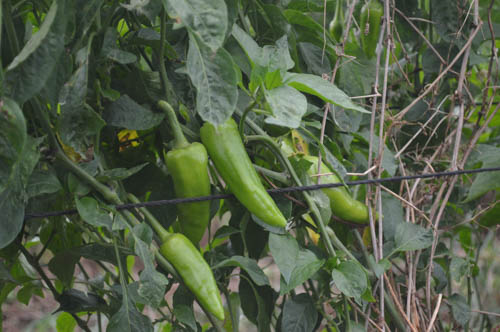ChiliPepper: (200, 118, 287, 226), (301, 151, 375, 223), (166, 236, 224, 317), (167, 144, 213, 240)
